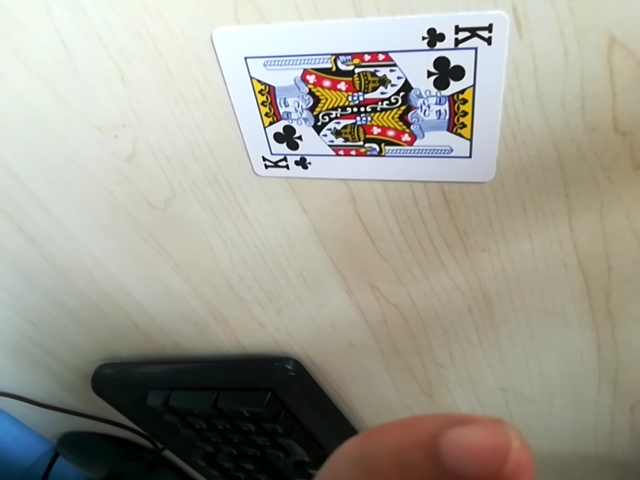mh k: (426, 20, 493, 51), (252, 152, 307, 176)
